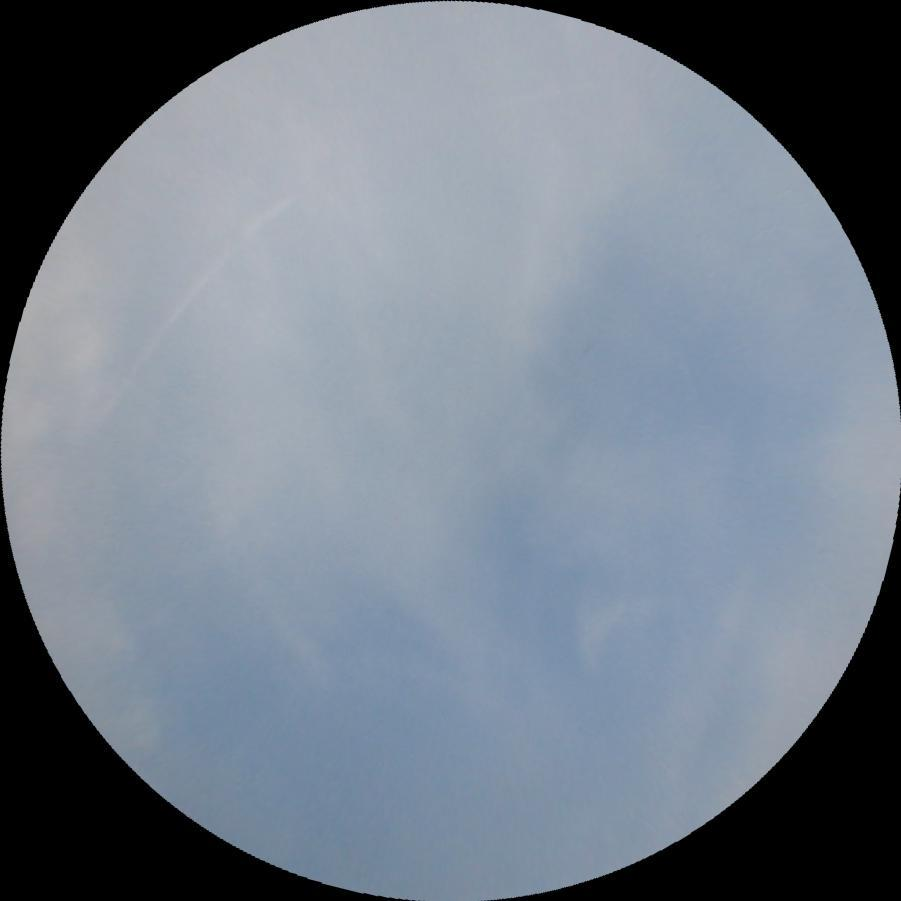contrail old: (78, 173, 316, 426)
